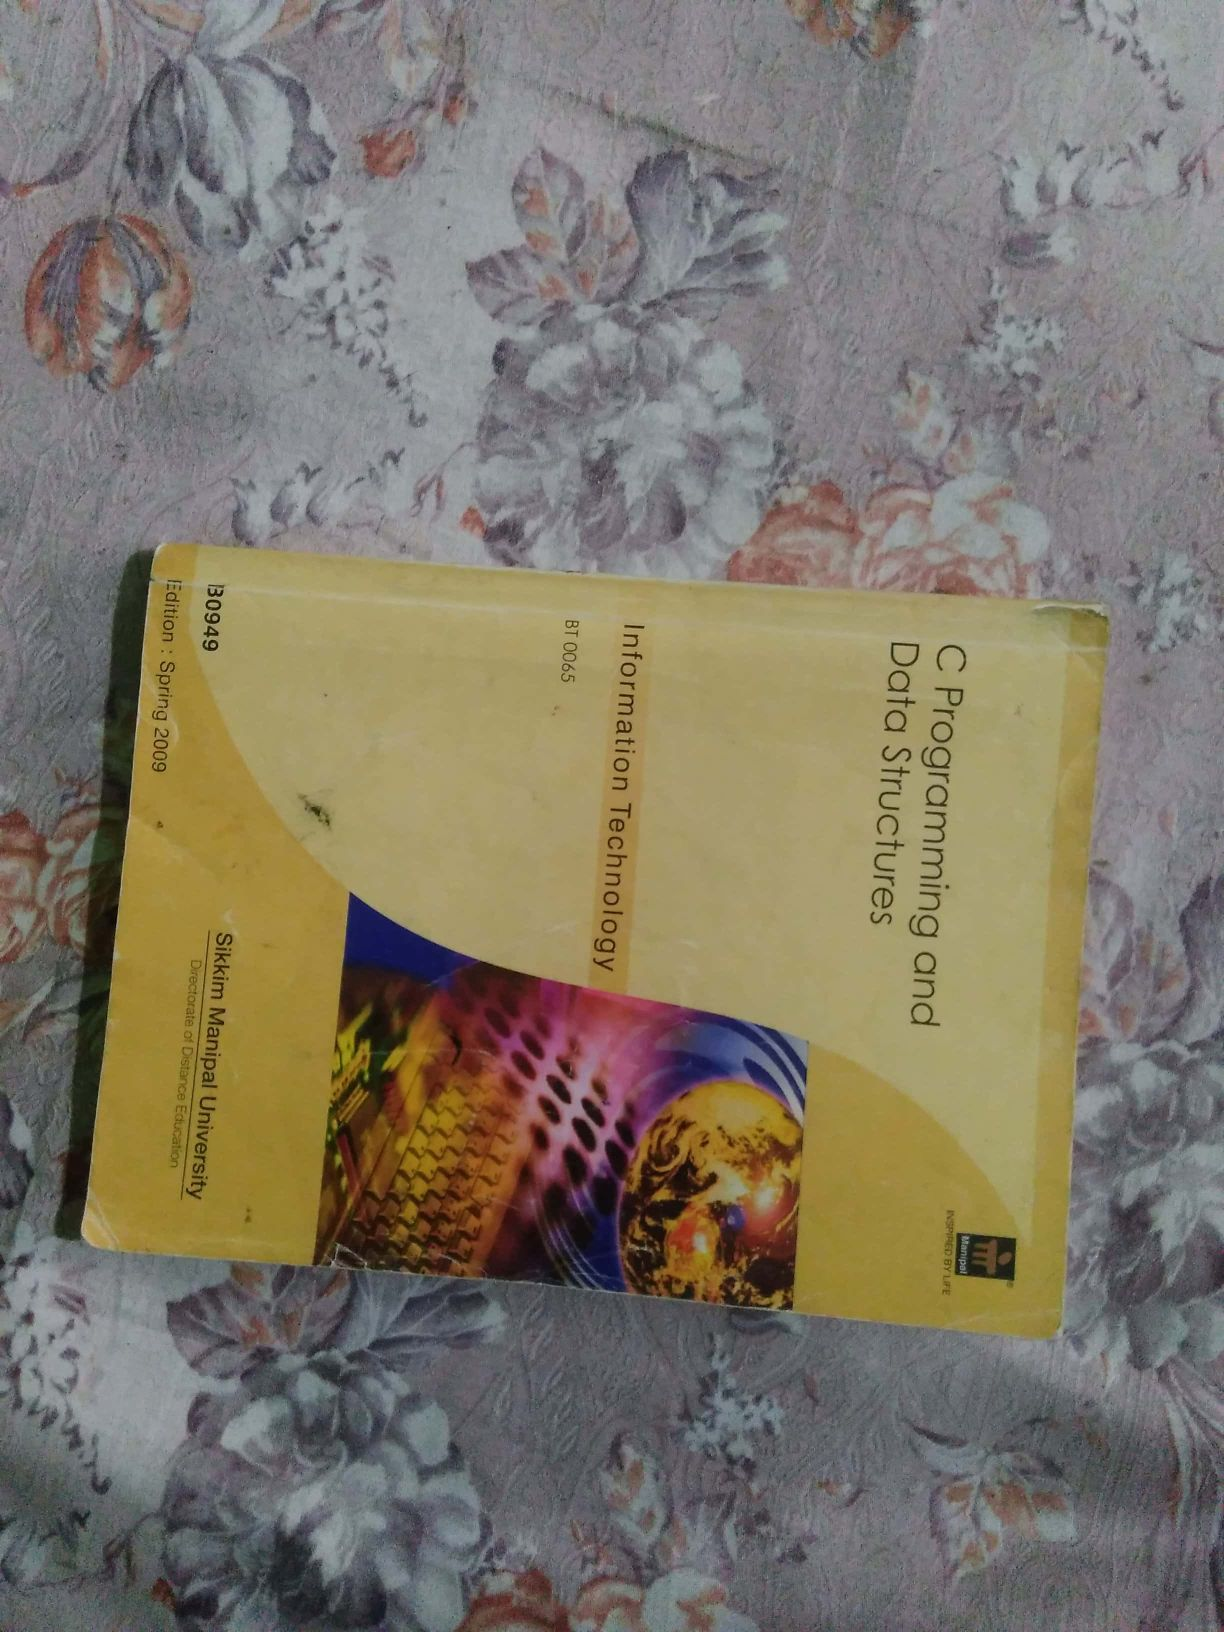clang: (30, 499, 1198, 1336)
